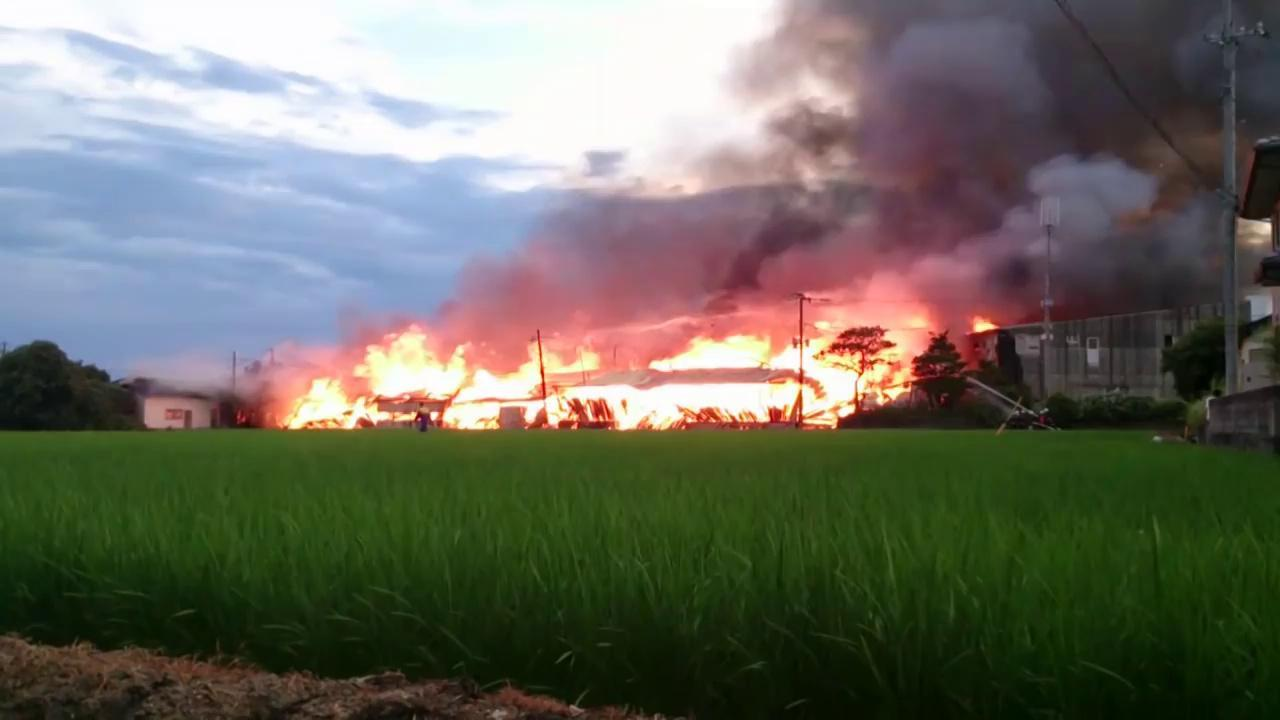Fire: (288, 316, 930, 429), (973, 315, 998, 333)
